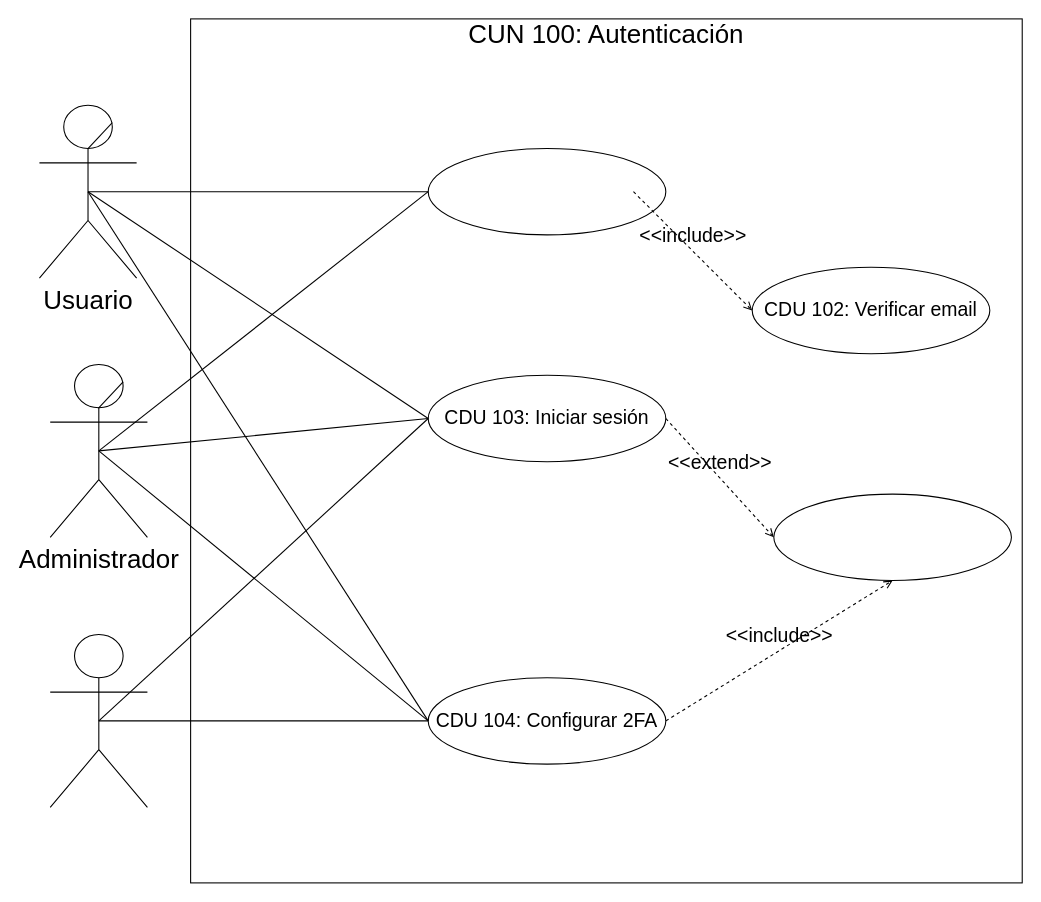
The diagram is 1041 pixels wide and 902 high, and some of its shapes have lost their labels. Here are the shapes that lost their labels. From the top down, the centre of each, then its label:
At (546,191): "CDU 101: Registrar usuario".
At (892,536): "CDU 105: Autenticar usuario 2FA".
At (98,720): "Gestor de Contenido".
